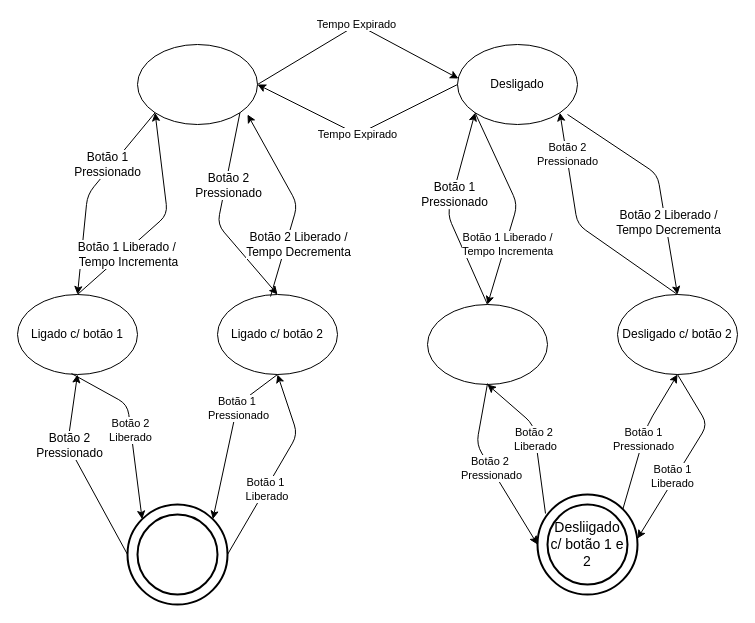
Some shapes in this 755 by 623 pixel diagram are drawn without their labels. The box of each missing label's shape, as (x1, y1, x2, y2) in pixels:
Desligado c/ botão 1: (426, 304, 548, 384)
Ligado: (136, 44, 258, 124)
Ligado c/ botão 1 e 2: (126, 503, 228, 605)
